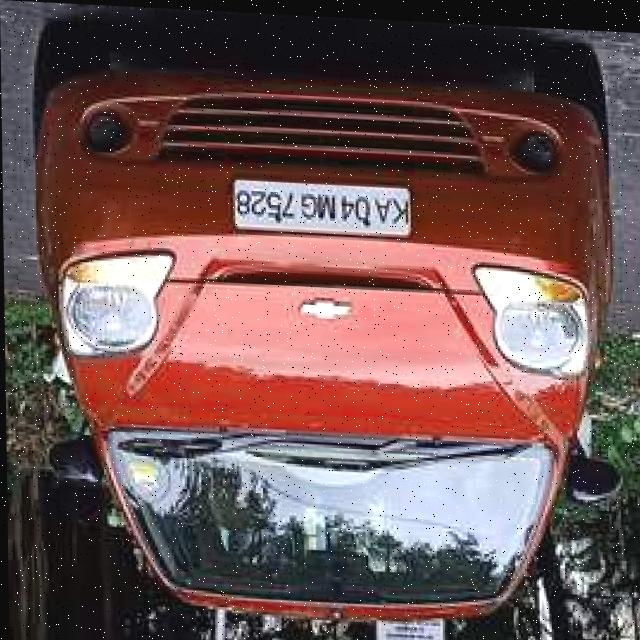plate: (231, 172, 412, 238)
